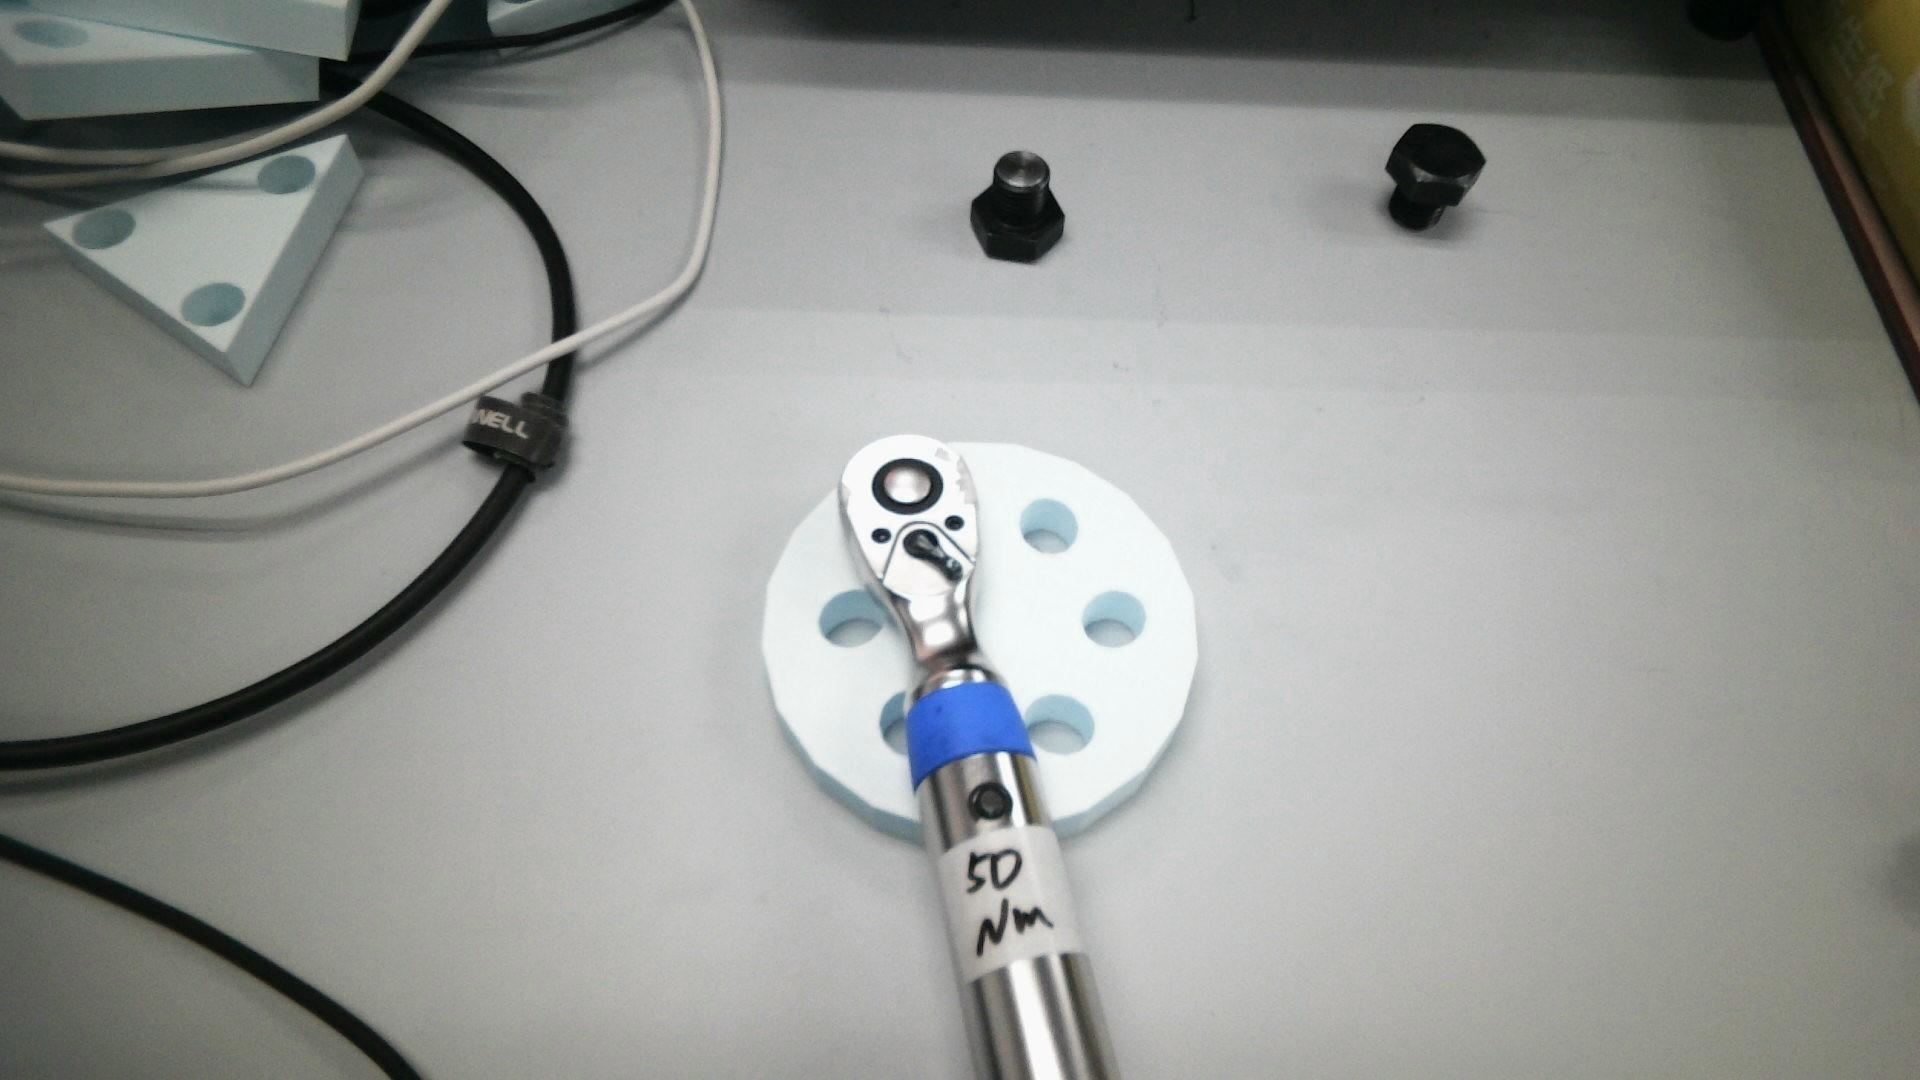hole: (1025, 695, 1096, 756), (819, 589, 886, 649), (1019, 498, 1081, 558), (1083, 591, 1147, 647), (878, 690, 914, 756)
obj: (764, 440, 1197, 848)
wrench: (872, 458, 943, 518)
